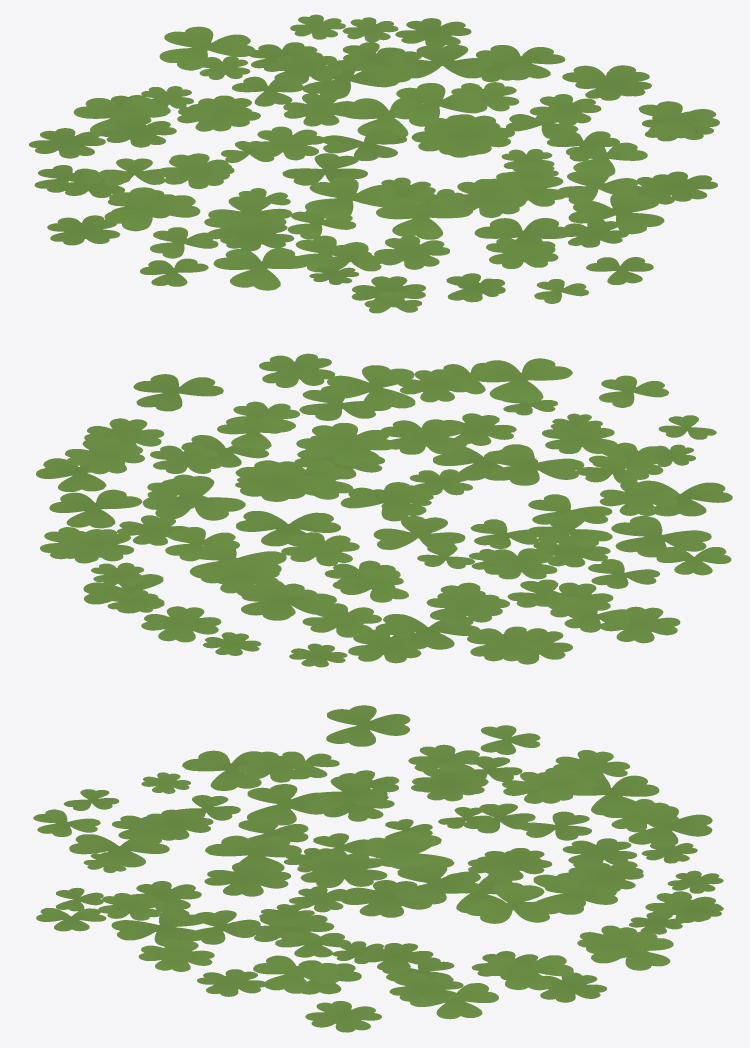
Rendered from Plant_07.fbx.
The picture shows the model from 3 angles, top to bottom: view 1: azimuth 30°, elevation 25°; view 2: azimuth 150°, elevation 25°; view 3: azimuth 270°, elevation 25°; orthographic projection. The views are drawn at different scales.
Visible parts, largest first — view 1: Plant_07_LOD0; view 2: Plant_07_LOD0; view 3: Plant_07_LOD0.
Boxes of the visible parts, x1=… form: Plant_07_LOD0: x1=29, y1=14, x2=719, y2=313; Plant_07_LOD0: x1=36, y1=353, x2=732, y2=667; Plant_07_LOD0: x1=33, y1=705, x2=723, y2=1032.
Size of what is drawn, in the model's own units: 0.7057 by 0.0616 by 0.7167.
